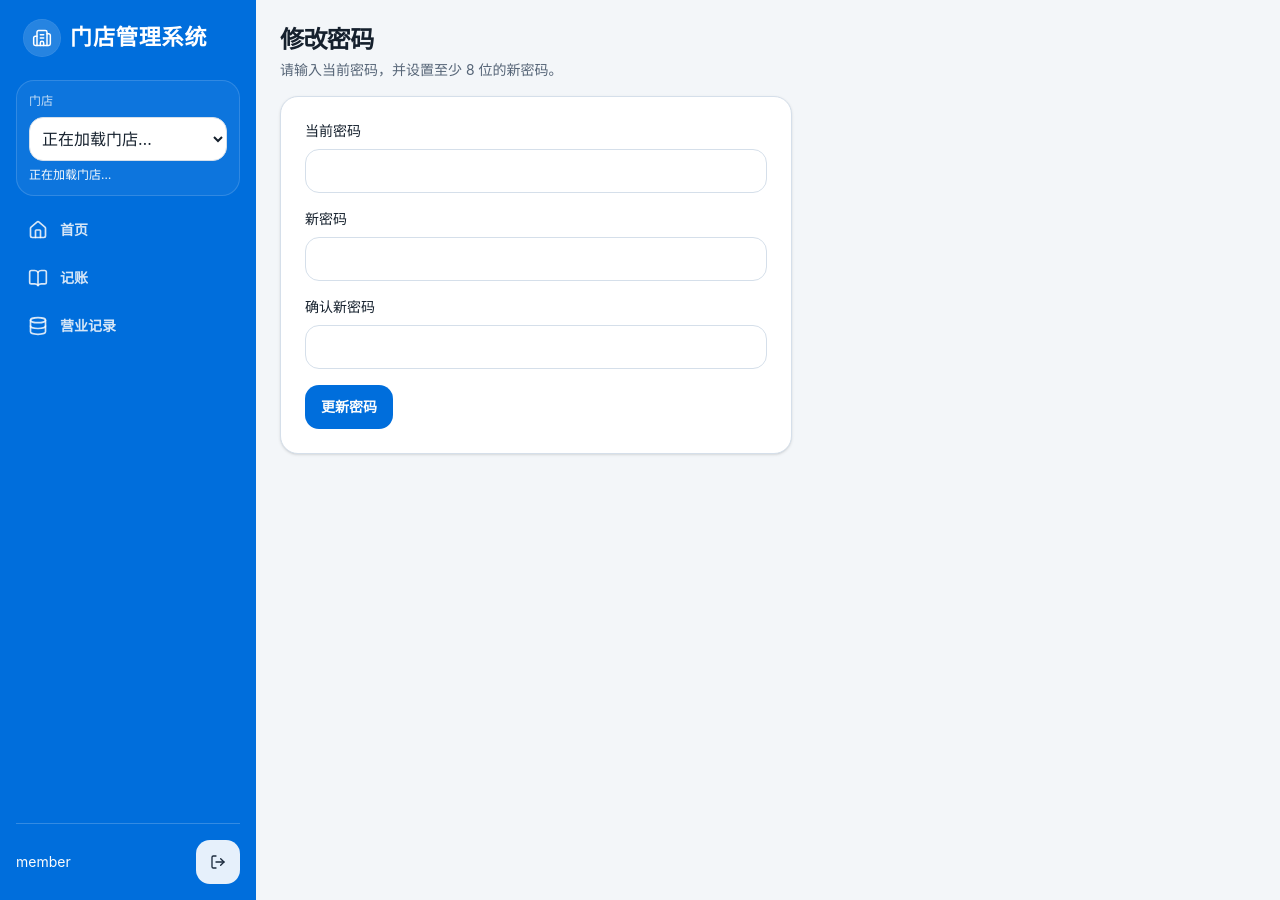
Test case: AccountPasswordPage › changes the password and returns to More with a success status
The width and height of the screenshot is (1280, 900).
Type "OldPassword1" into the password field labelled "当前密码" at (536, 171), box x1=305 y1=149 x2=767 y2=193
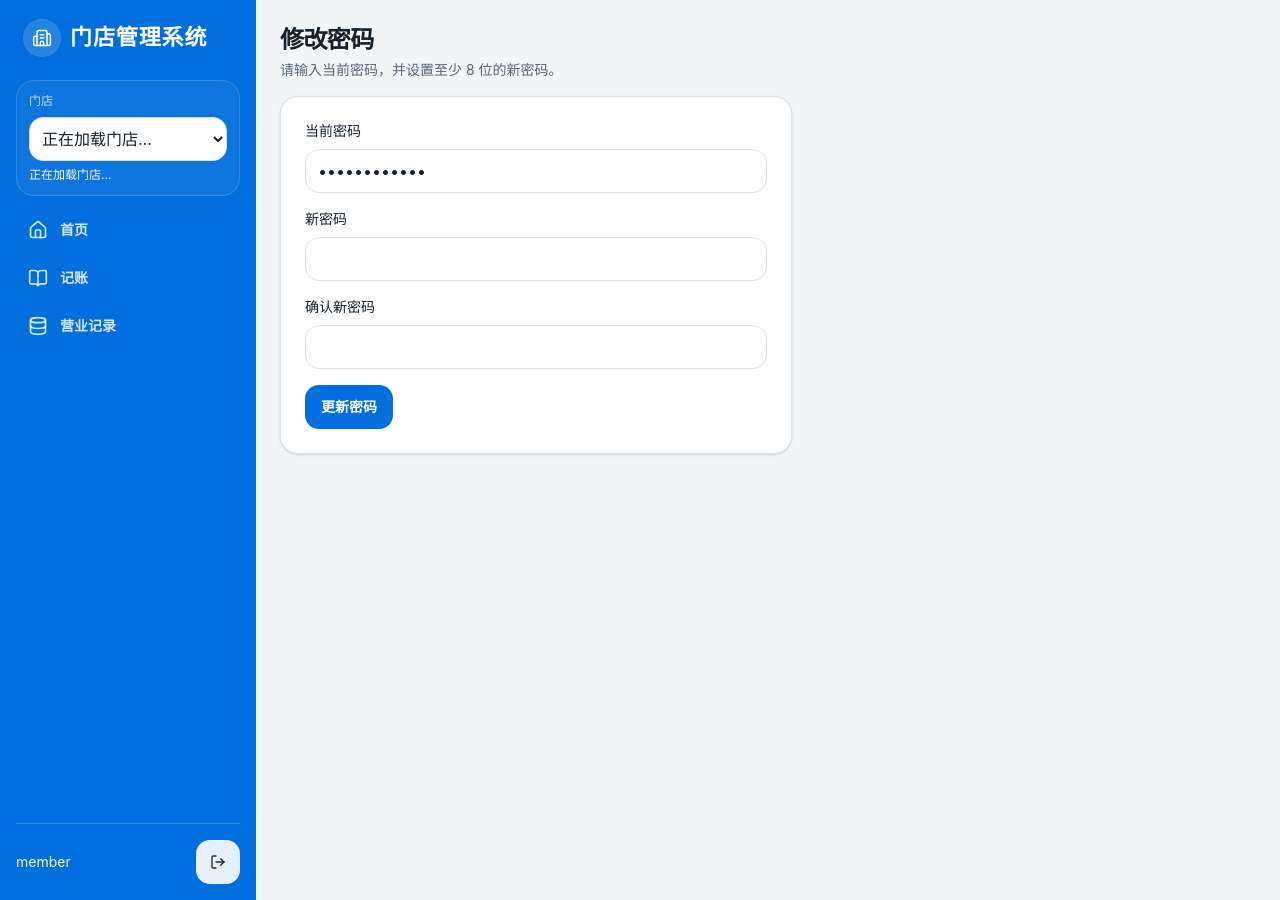
Type "NewPassword2" into the password field labelled "新密码" at (536, 259), box x1=305 y1=237 x2=767 y2=281
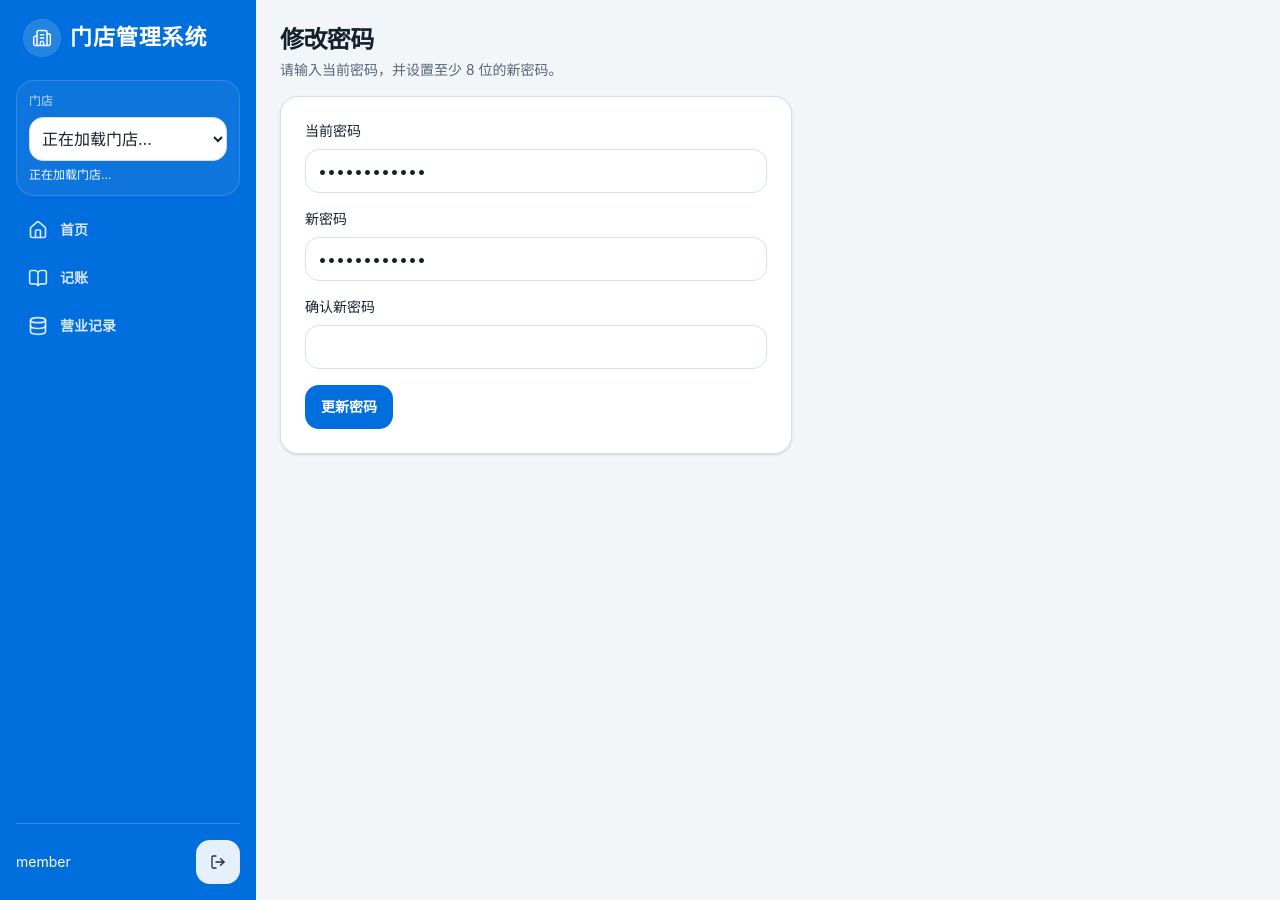
Type "NewPassword2" into the password field labelled "确认新密码" at (536, 347), box x1=305 y1=325 x2=767 y2=369
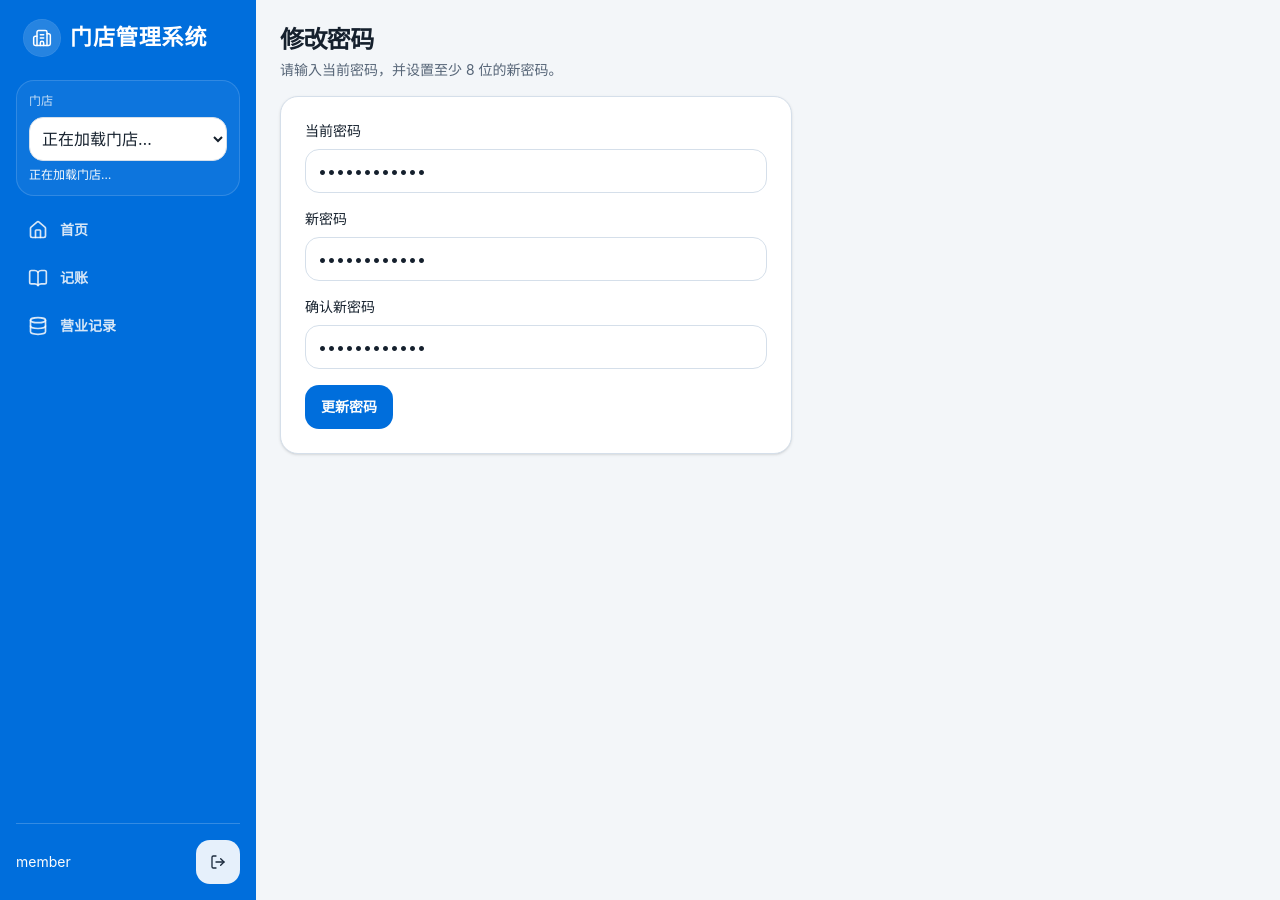
Click the button "更新密码" at (349, 407), box x1=305 y1=385 x2=393 y2=429
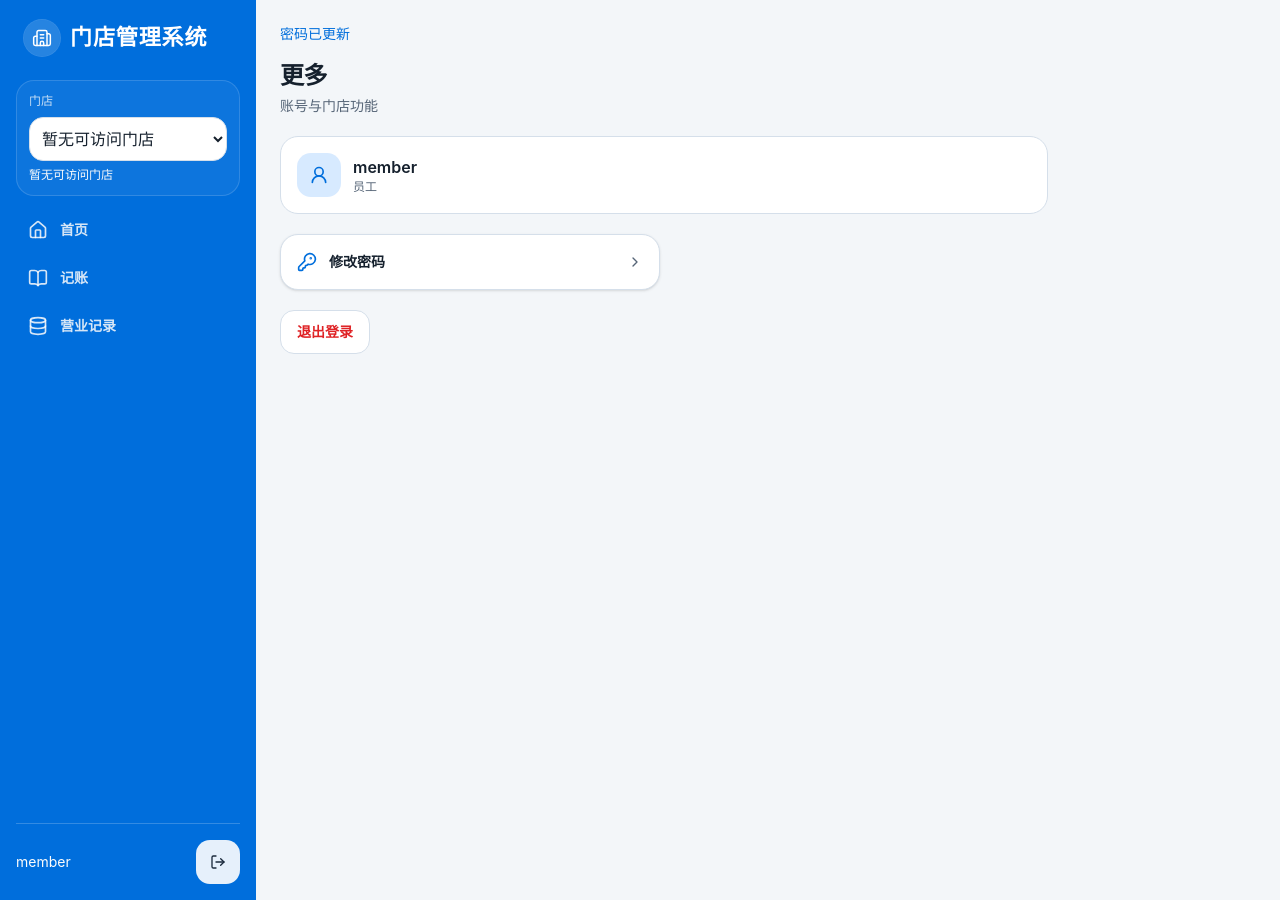
Check: the heading "更多" is shown, box x1=280 y1=61 x2=327 y2=90
